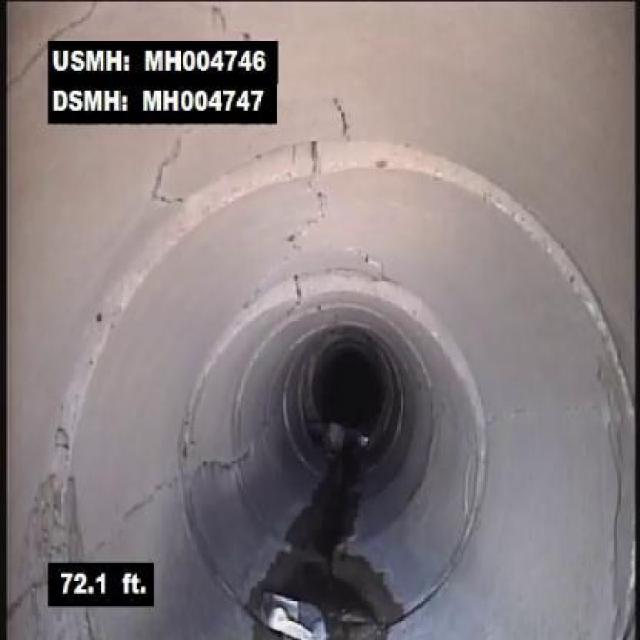Crack: (9, 5, 97, 90), (106, 477, 177, 538), (326, 89, 388, 148), (298, 182, 351, 240), (146, 137, 188, 208), (12, 576, 46, 618), (210, 3, 232, 39)
Debris: (252, 588, 334, 638)
Joint offset: (397, 144, 545, 233), (252, 266, 443, 306), (198, 136, 320, 187), (212, 305, 251, 352)
